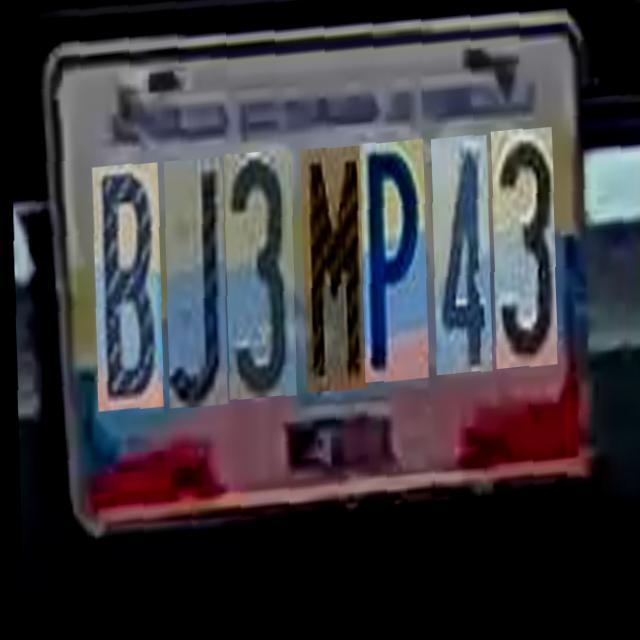3: (218, 150, 292, 400), (484, 126, 552, 368)
4: (425, 133, 487, 374)
B: (86, 163, 158, 412)
J: (158, 158, 222, 409)
M: (294, 146, 362, 392)
P: (354, 138, 424, 382)
